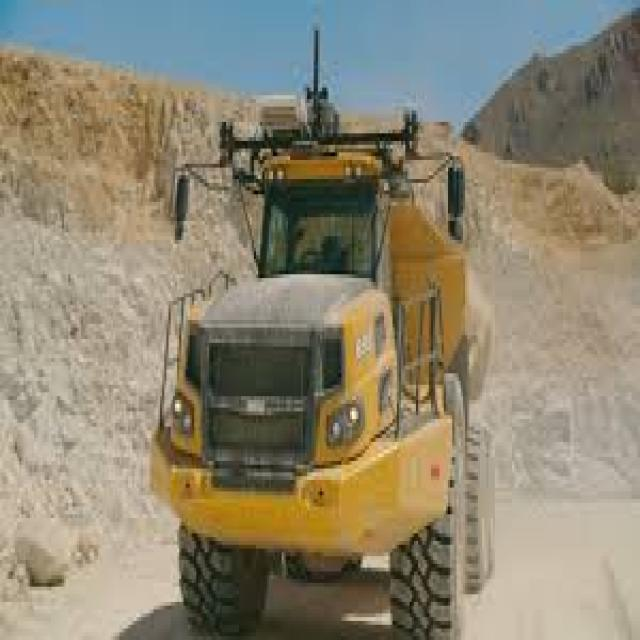dump_truck: (113, 76, 504, 621)
